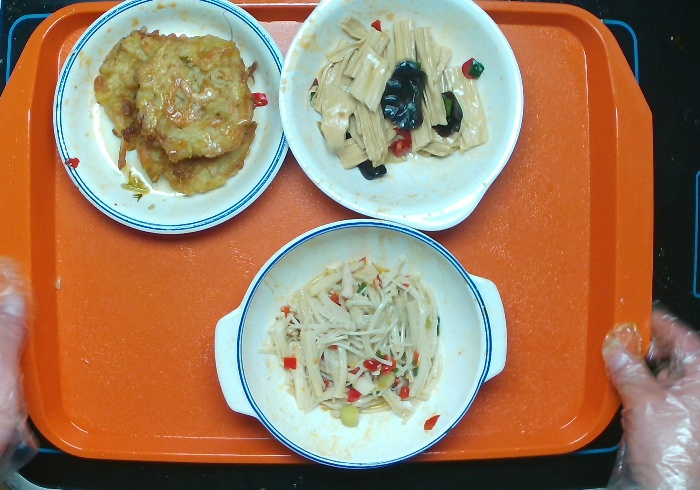HZYJPL-Dai_Er_Bai_Yuan_Wan: (276, 1, 527, 234)
HZYJPL-Lan_Bian_Dai_Er_Wan: (209, 215, 513, 472)
HZYJPL-Lan_Bian_Yuan_Die: (49, 1, 297, 238)
